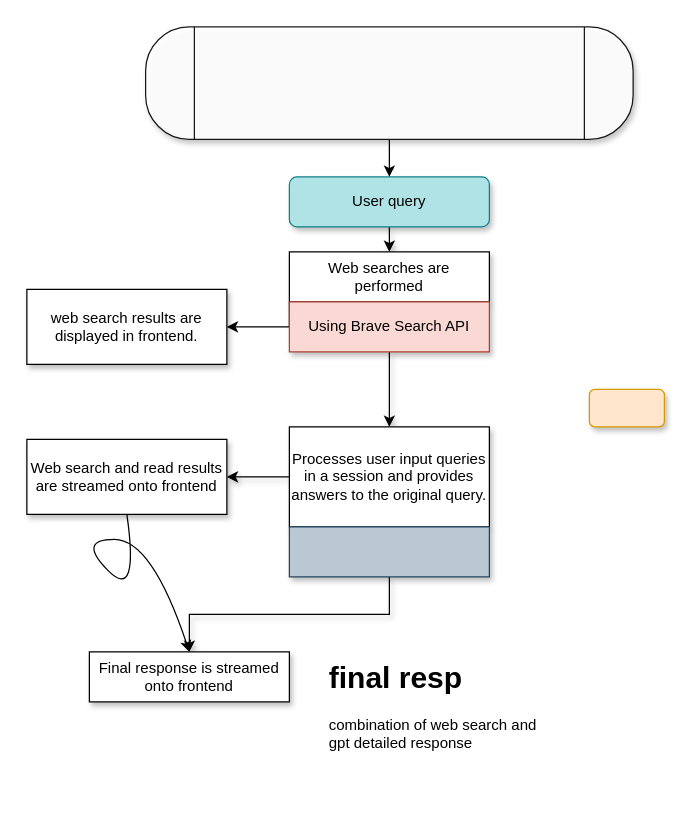
The diagram is 694 pixels wide and 828 high, and some of its shapes have lost their labels. The shapes that lost their labels are listed below. From the top down, each one's centre as x and y in pixels, then its label:
pixel 390 84: Server-side Next.js, OpenAI, Brave Search API Frontend Next.js, TailwindCSS
pixel 627 409: V1.0.0
pixel 390 553: Using gpt-3.5-turbo-0125
